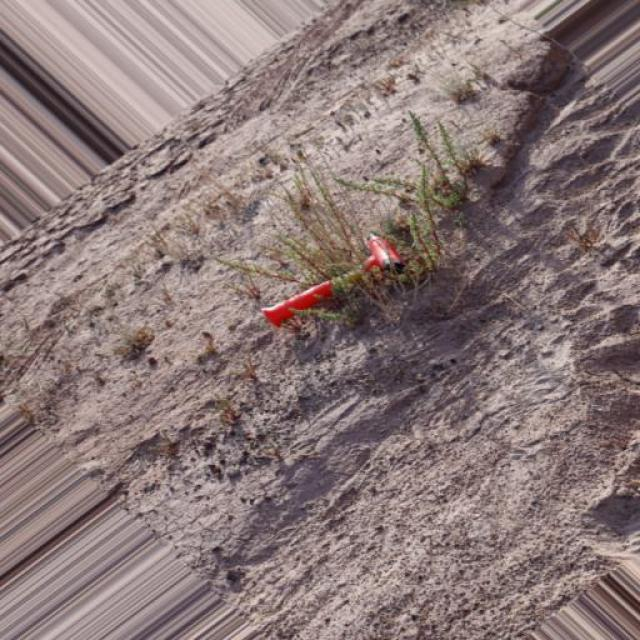mallet: (260, 232, 404, 328)
